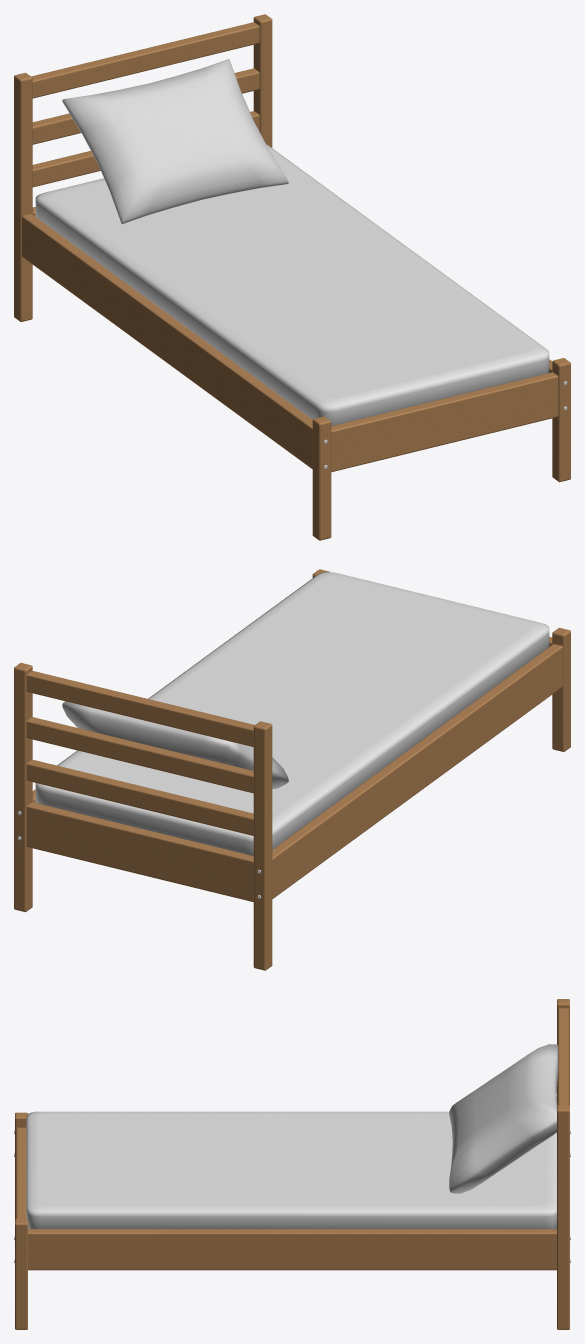
Rendered from bed.glb.
3 renders of one model, top to bottom at view 1: azimuth 30°, elevation 25°; view 2: azimuth 150°, elevation 25°; view 3: azimuth 270°, elevation 25°, orthographic. The views are drawn at different scales.
Parts seen in each view (by area): view 1: Bed Mattress, Bed Frame, Bed Pillow; view 2: Bed Mattress, Bed Frame, Bed Pillow; view 3: Bed Mattress, Bed Frame, Bed Pillow.
Part boxes in pixels (<box>): Bed Mattress: <box>35,144,549,425</box>; Bed Frame: <box>14,14,570,540</box>; Bed Pillow: <box>62,59,288,224</box>; Bed Mattress: <box>35,572,549,855</box>; Bed Frame: <box>14,569,570,970</box>; Bed Pillow: <box>62,701,288,788</box>; Bed Mattress: <box>26,1111,556,1228</box>; Bed Frame: <box>14,999,570,1329</box>; Bed Pillow: <box>449,1044,558,1193</box>.
Size of the model in its own units: 1 by 0.9185 by 2.11.
Materials: 3 (3 with a texture image).
